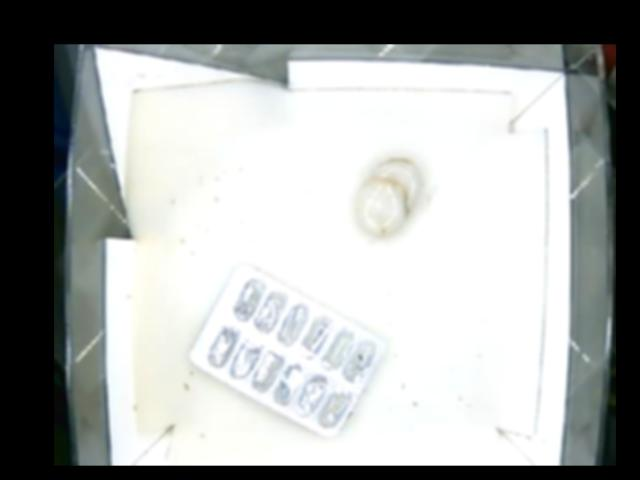Medicine: (186, 262, 385, 435)
Pebble: (354, 155, 424, 239)
